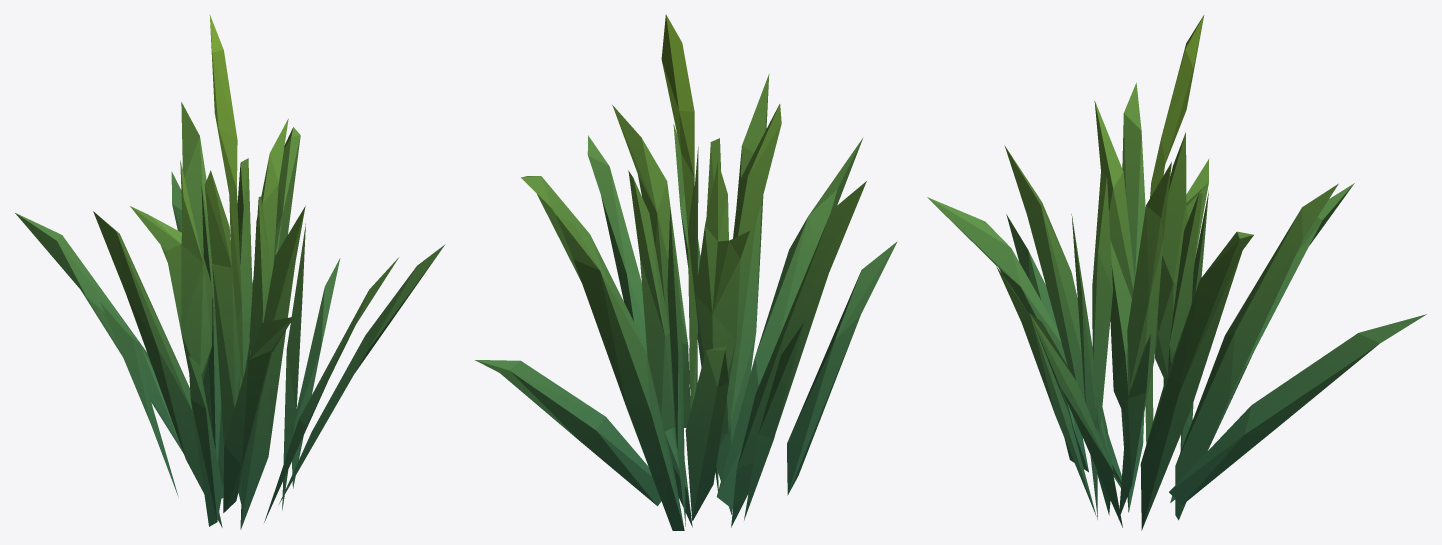
The model's file is ZLP_Grass_A_5.FBX.
The picture shows the model from 3 angles, left to right: view 1: azimuth 30°, elevation 25°; view 2: azimuth 150°, elevation 25°; view 3: azimuth 270°, elevation 25°; orthographic projection. The views are drawn at different scales.
Parts seen in each view (by area): view 1: ZLP_Grass_A_5; view 2: ZLP_Grass_A_5; view 3: ZLP_Grass_A_5.
Boxes of the visible parts, x1,y1,x2,y2 form: ZLP_Grass_A_5: (15, 14, 445, 529); ZLP_Grass_A_5: (475, 14, 897, 530); ZLP_Grass_A_5: (927, 15, 1426, 530).
Size of the model in its own units: 77.8 by 120 by 106.
